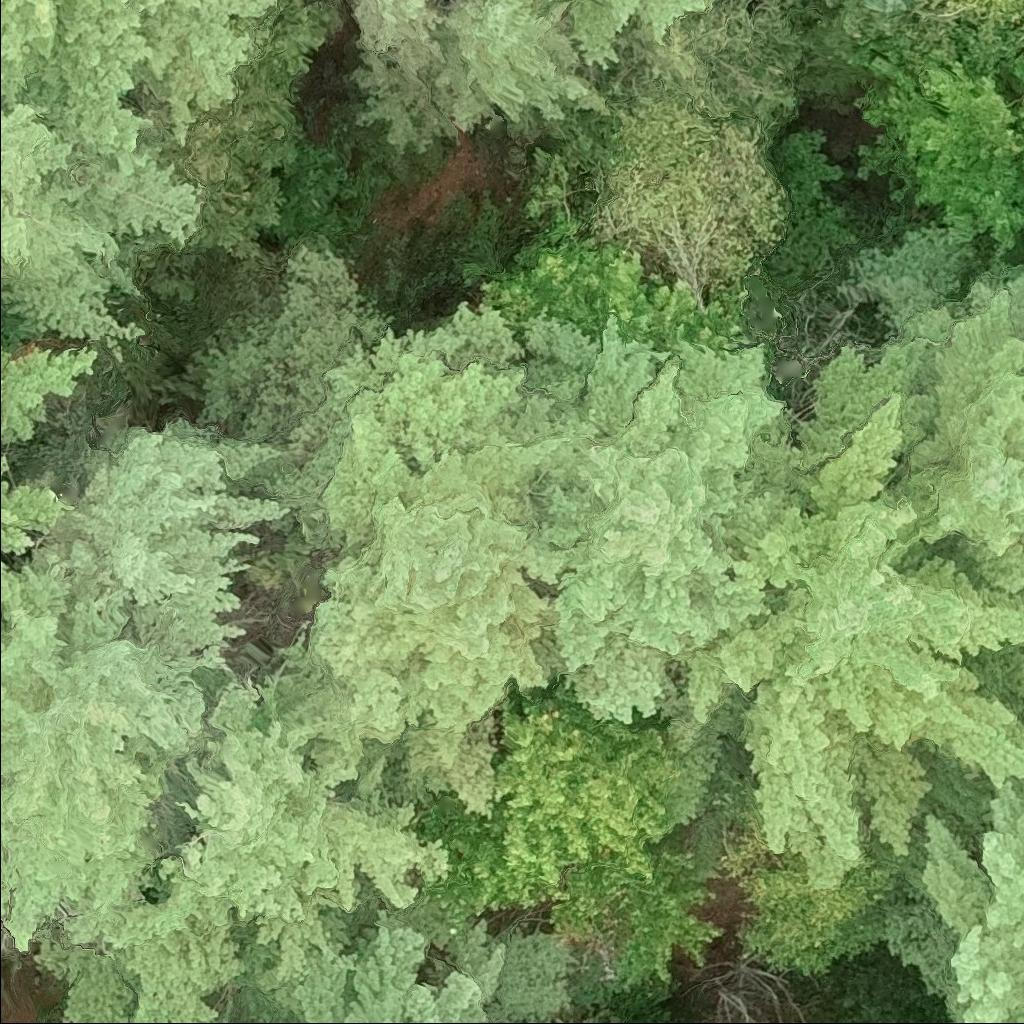crown: (174, 234, 578, 820), (650, 331, 1023, 893), (0, 415, 298, 961), (30, 651, 451, 1023), (509, 299, 793, 731), (414, 672, 677, 921), (844, 222, 1023, 586), (468, 149, 757, 346), (0, 94, 204, 365), (555, 82, 787, 301), (0, 0, 281, 179), (236, 893, 621, 1023), (882, 748, 1023, 1023), (593, 0, 807, 143), (429, 0, 615, 146), (853, 55, 1023, 204), (542, 0, 726, 80), (910, 153, 1023, 255), (0, 340, 100, 449), (349, 0, 453, 84), (913, 0, 1023, 74), (0, 455, 80, 553), (802, 0, 922, 49), (994, 38, 1023, 137), (212, 996, 238, 1023), (1016, 146, 1023, 164)
